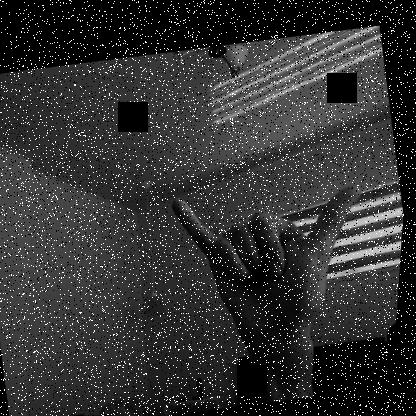Y: (161, 154, 394, 366)
